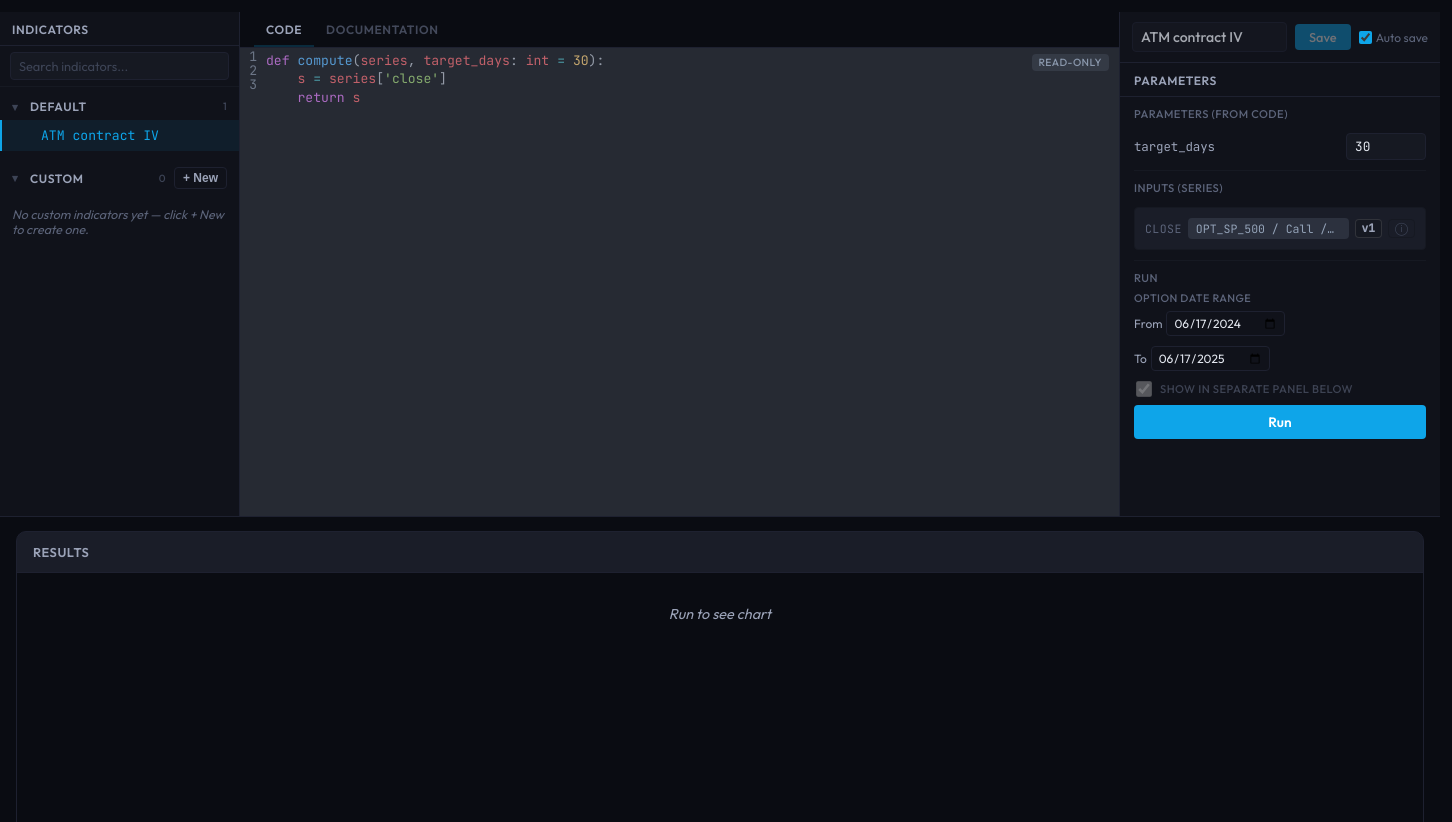
Test: option_stream — typed-error rendering › renders the typed error card on TAUTOLOGICAL_OPTION_STREAM (422)
Click the button with aria-label "run indicator": (1280, 422) [1134,405,1426,439]
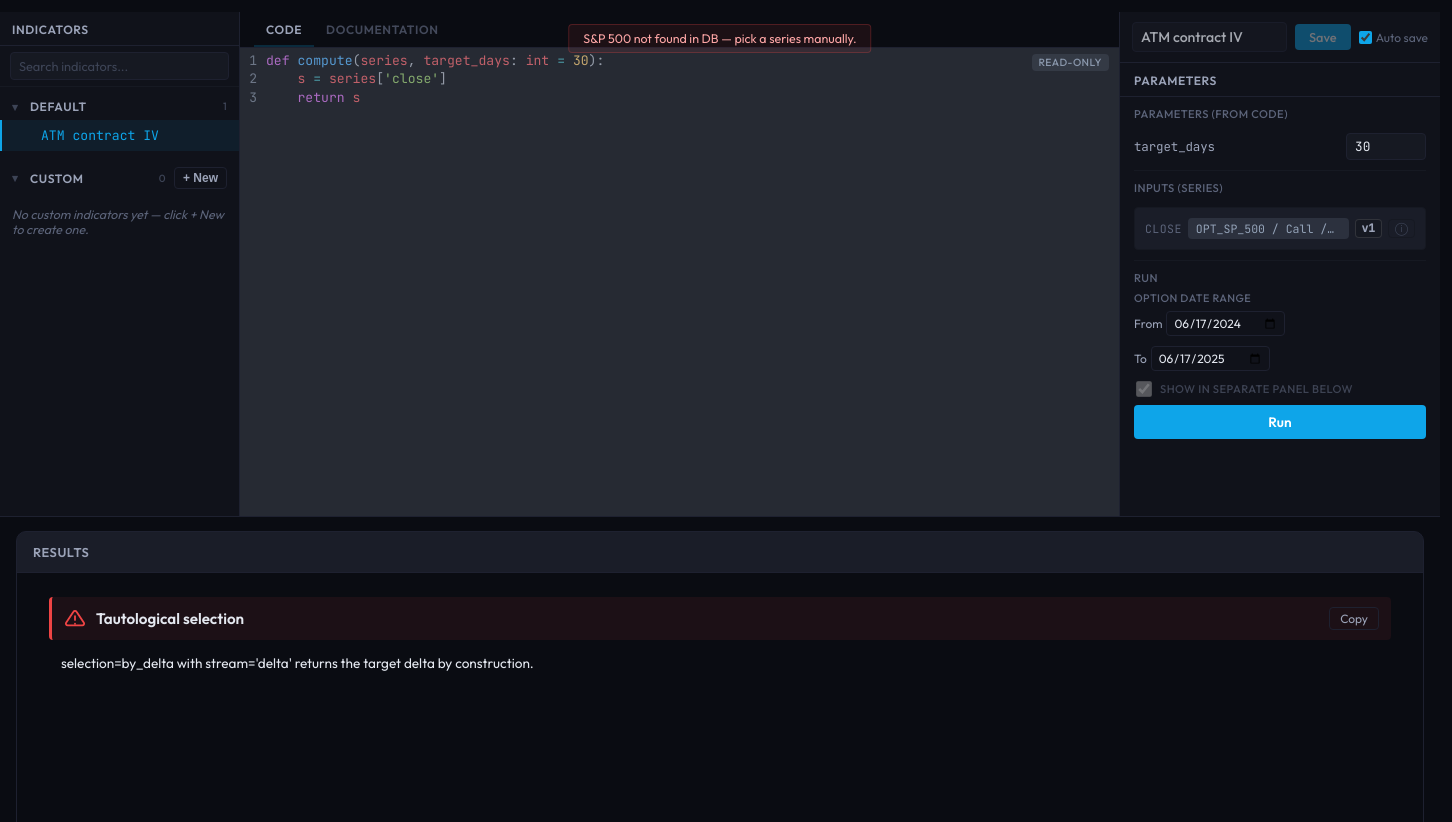
Result: the heading "Tautological selection" is shown at [96,609,244,628]
Result: the text "by_delta" is shown at [61,654,534,672]
